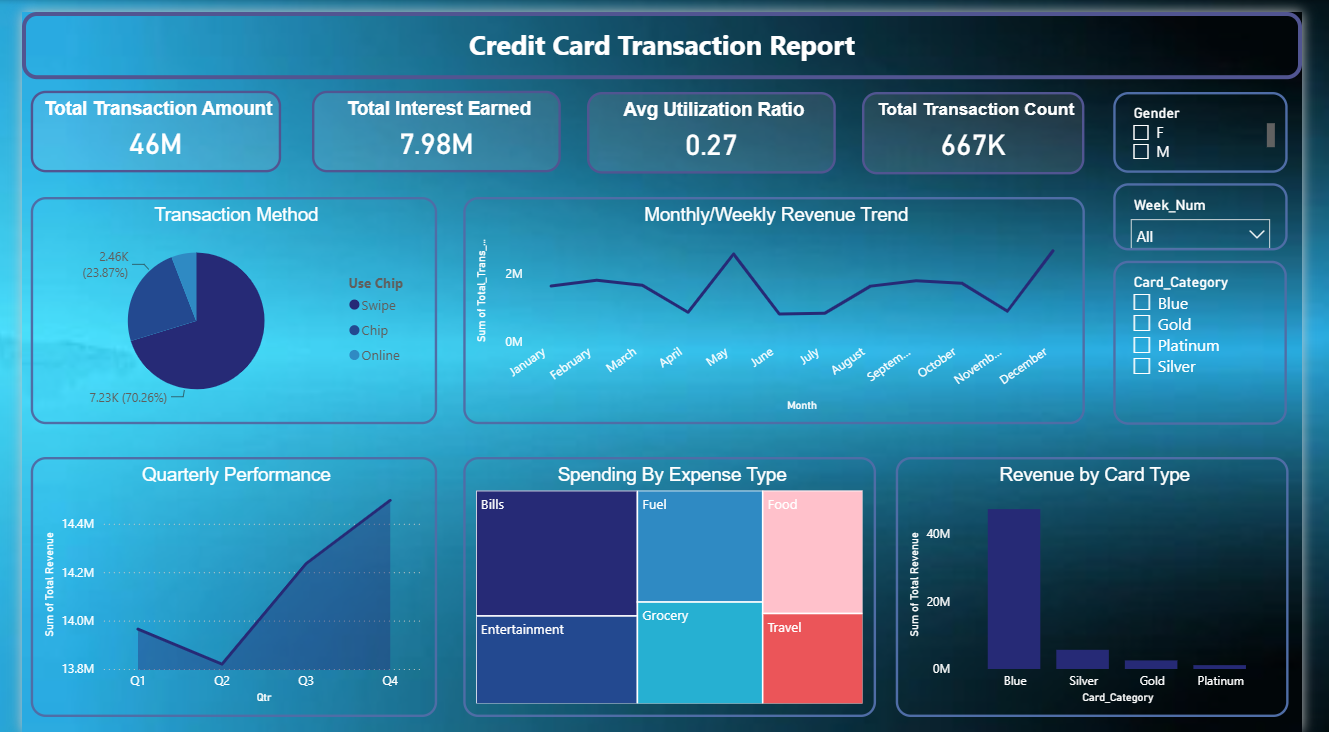

The page's visual inventory and layout, read from the dashboard file:
{"tool":"powerbi","page":{"name":"Page 2","canvas":[1280,720],"ordinal":1},"visuals":[{"type":"textbox","box":[0,0,1280,67.2],"z":0},{"type":"slicer","fields":{"Values":["customer.Gender"]},"box":[1091,79.6,174.2,80.9],"z":1000},{"type":"slicer","fields":{"Values":["CreditCard.Card_Category"]},"box":[1091.2,248.8,173.8,163.8],"z":2000},{"type":"slicer","fields":{"Values":["CreditCard.Week_Num"]},"box":[1091,171.7,174.2,67.2],"z":3000},{"type":"card","title":"Total Interest Earned","fields":{"Values":["Sum(CreditCard.Interest_Earned)"]},"box":[290,78.8,248.8,81.2],"z":4000},{"type":"card","title":"Avg Utilization Ratio","fields":{"Values":["Avg(CreditCard.Avg_Utilization_Ratio)"]},"box":[565,80,248.8,81.2],"z":5000},{"type":"card","title":"Total Transaction Amount","fields":{"Values":["Sum(CreditCard.Total_Trans_Amt)"]},"box":[8.8,78.8,250,81.2],"z":6000},{"type":"columnChart","title":"Revenue by Card Type","fields":{"Category":["CreditCard.Card_Category"],"Y":["Sum(CreditCard.Total Revenue)"]},"box":[873.3,445.3,393.1,260],"z":7000},{"type":"pieChart","title":"Transaction Method","fields":{"Category":["CreditCard.Use Chip"],"Y":["CountNonNull(CreditCard.Use Chip)"]},"box":[8.8,185,406.2,227.5],"z":8000},{"type":"treemap","title":"Spending By Expense Type","fields":{"Group":["CreditCard.Exp Type"],"Values":["Sum(CreditCard.Total_Trans_Amt)"]},"box":[441.6,445.3,413,260],"z":9000},{"type":"areaChart","title":"Quarterly Performance","fields":{"Category":["CreditCard.Qtr"],"Y":["Sum(CreditCard.Total Revenue)"]},"box":[8.8,445,406.2,260],"z":10000},{"type":"lineChart","title":"Monthly/Weekly Revenue Trend","fields":{"Category":["CreditCard.Week_Start_Date.Variation.Date Hierarchy.Year","CreditCard.Week_Start_Date.Variation.Date Hierarchy.Month","CreditCard.Week_Start_Date.Variation.Date Hierarchy.Day"],"Y":["Sum(CreditCard.Total_Trans_Amt)"]},"box":[441.2,185,621.2,227.5],"z":11000},{"type":"card","title":"Total Transaction Count","fields":{"Values":["Sum(CreditCard.Total_Trans_Vol)"]},"box":[839.7,79.6,222.7,82.1],"z":12000}]}

Visuals, with their boxes in screenshot pixels (x1, y1, x2, y2), scaled from the page's 1280x720 canvas onto the 1329x732 screenshot:
textbox: box=[0, 0, 1328, 68]
slicer - customer.Gender: box=[1133, 81, 1314, 163]
slicer - CreditCard.Card_Category: box=[1133, 253, 1313, 419]
slicer - CreditCard.Week_Num: box=[1133, 175, 1314, 243]
"Total Interest Earned" card: box=[301, 80, 559, 163]
"Avg Utilization Ratio" card: box=[587, 81, 845, 164]
"Total Transaction Amount" card: box=[9, 80, 269, 163]
"Revenue by Card Type" columnChart: box=[907, 453, 1315, 717]
"Transaction Method" pieChart: box=[9, 188, 431, 419]
"Spending By Expense Type" treemap: box=[459, 453, 887, 717]
"Quarterly Performance" areaChart: box=[9, 452, 431, 717]
"Monthly/Weekly Revenue Trend" lineChart: box=[458, 188, 1103, 419]
"Total Transaction Count" card: box=[872, 81, 1103, 164]
